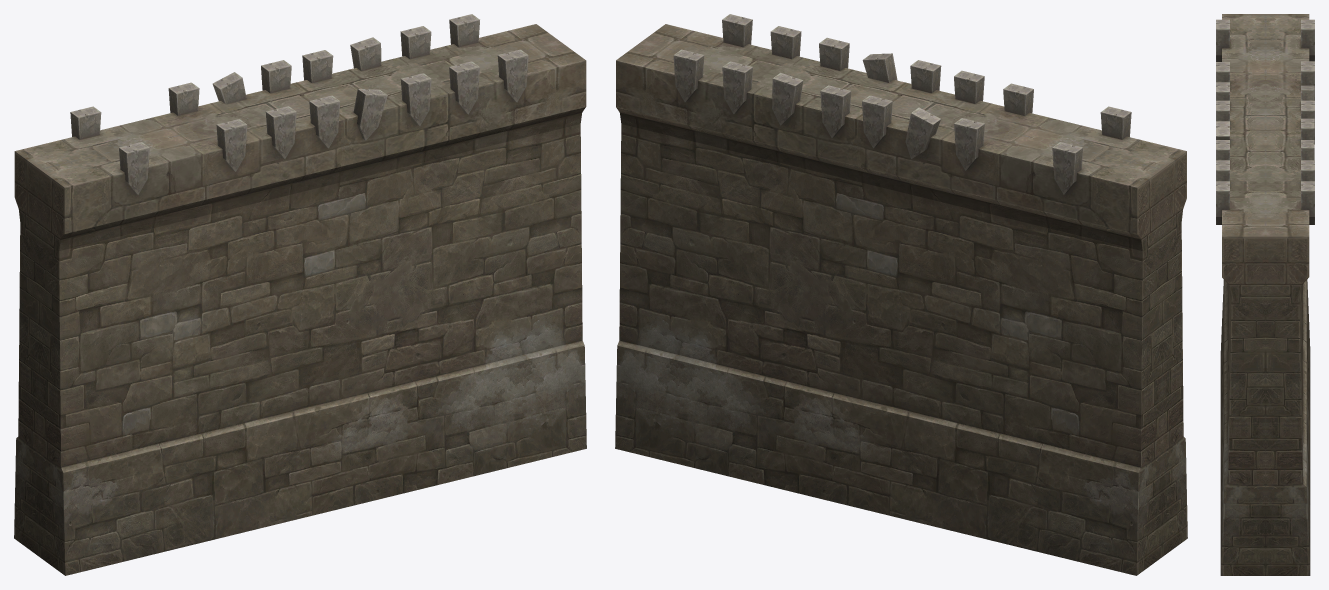
Rendered from Wall002.fbx.
The picture shows the model from 3 angles, left to right: view 1: azimuth 30°, elevation 25°; view 2: azimuth 150°, elevation 25°; view 3: azimuth 270°, elevation 25°; orthographic projection. The views are drawn at different scales.
Parts seen in each view (by area): view 1: Wall003; view 2: Wall003; view 3: Wall003.
Part boxes in pixels (<box>): Wall003: <box>14,14,586,575</box>; Wall003: <box>615,14,1187,575</box>; Wall003: <box>1216,14,1314,575</box>.
Size of the model in its own units: 44.53 by 33.55 by 8.34.
